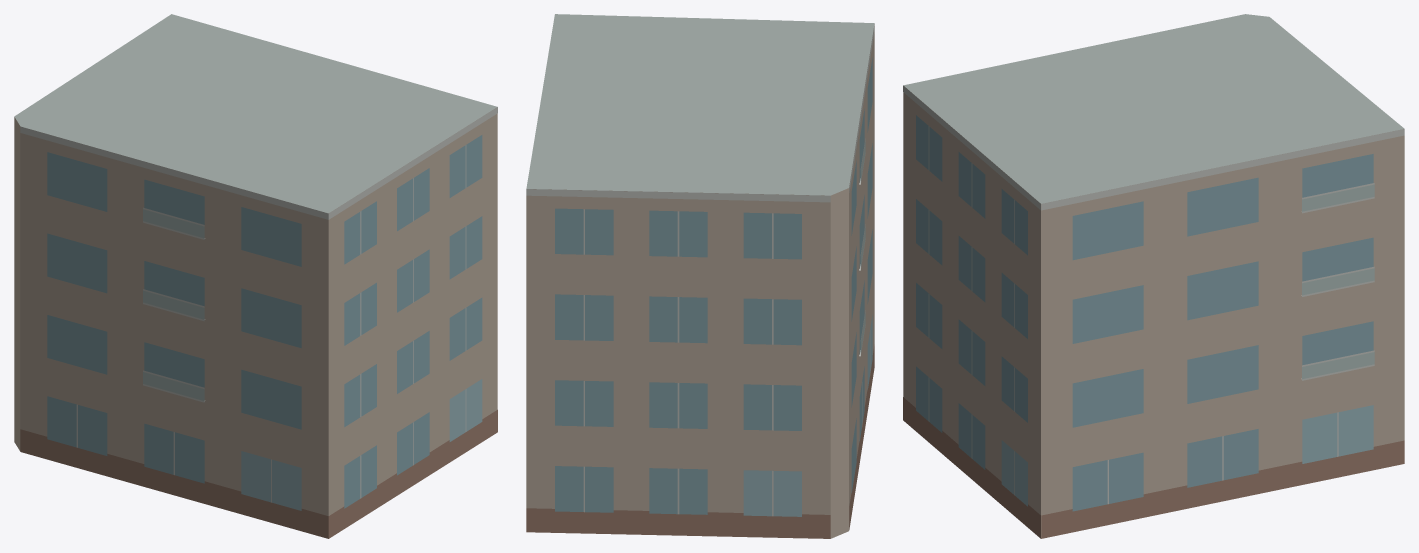
The model's file is survey-upis-32738549.glb.
3 renders of one model, left to right at view 1: azimuth 30°, elevation 25°; view 2: azimuth 150°, elevation 25°; view 3: azimuth 270°, elevation 25°, orthographic. The views are drawn at different scales.
Visible parts, largest first — view 1: survey-upis-32738549.tmp; view 2: survey-upis-32738549.tmp; view 3: survey-upis-32738549.tmp.
Part boxes in pixels (box(x1,y1,x2,y2)): survey-upis-32738549.tmp: box(14, 14, 497, 538); survey-upis-32738549.tmp: box(526, 14, 874, 538); survey-upis-32738549.tmp: box(903, 14, 1404, 538).
Bounding box in the file's own units: 14.96 × 12.3 × 16.7.
